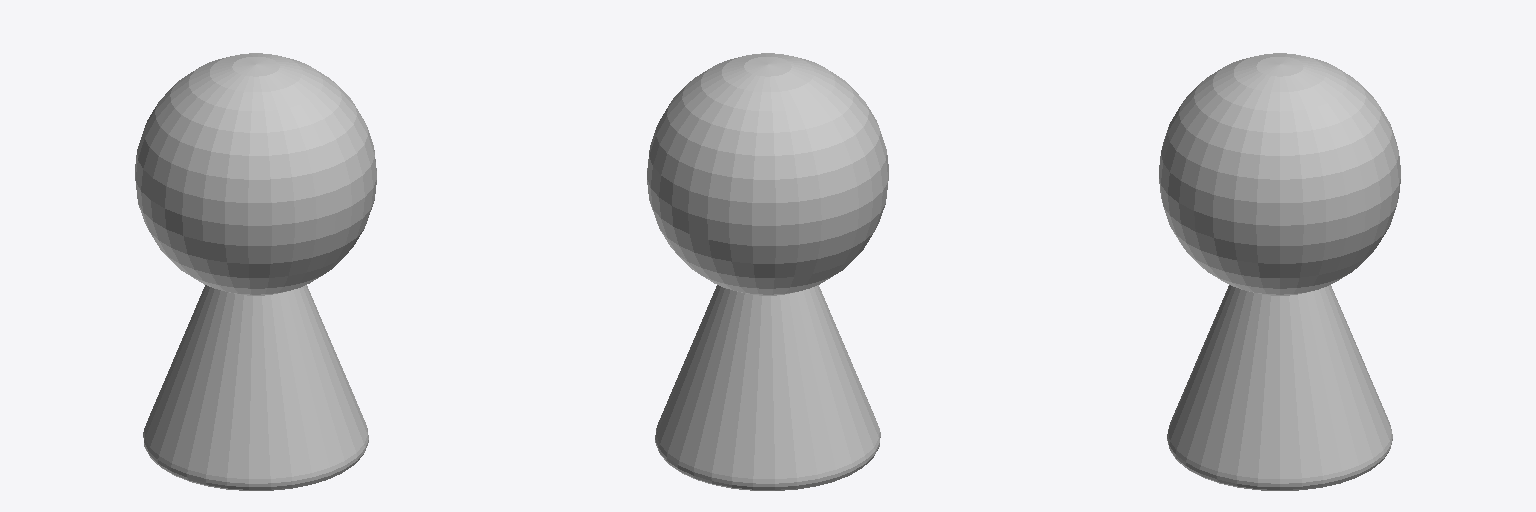
The model's file is GreenPlayer.obj.
3 views of the same model, side by side, from view 1: azimuth 30°, elevation 25°; view 2: azimuth 150°, elevation 25°; view 3: azimuth 270°, elevation 25° (orthographic).
Parts seen in each view (by area): view 1: Sphere; view 2: Sphere; view 3: Sphere.
Part boxes in pixels (bbox=[...]): Sphere: bbox=[135, 53, 376, 490]; Sphere: bbox=[647, 53, 888, 490]; Sphere: bbox=[1159, 53, 1400, 490].
Size of the model in its own units: 0.2 by 0.3478 by 0.2.